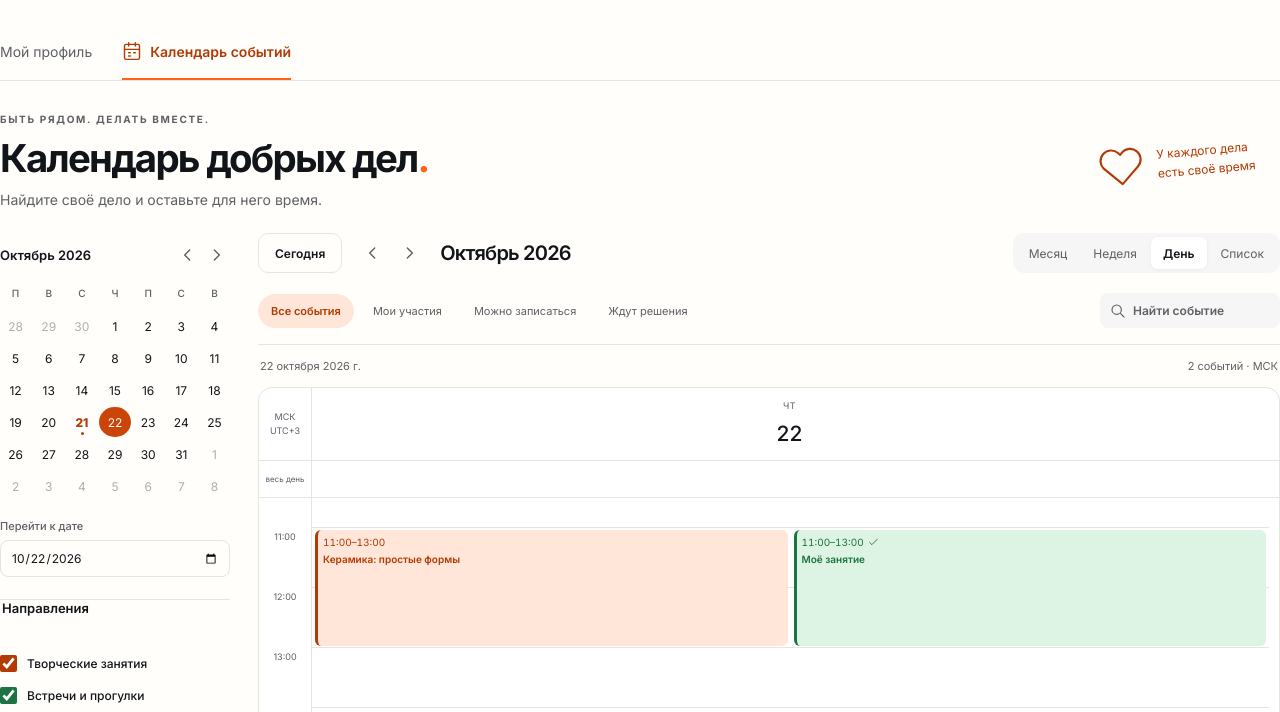
calendar interaction › warns about confirmed overlapping events even if filtered out
(page scrolled)
Expected: the button with aria-label "Керамика: простые формы, " is shown, [315,530,788,646]
Click the button "Можно записаться" at [525, 311], box [461,294,589,328]
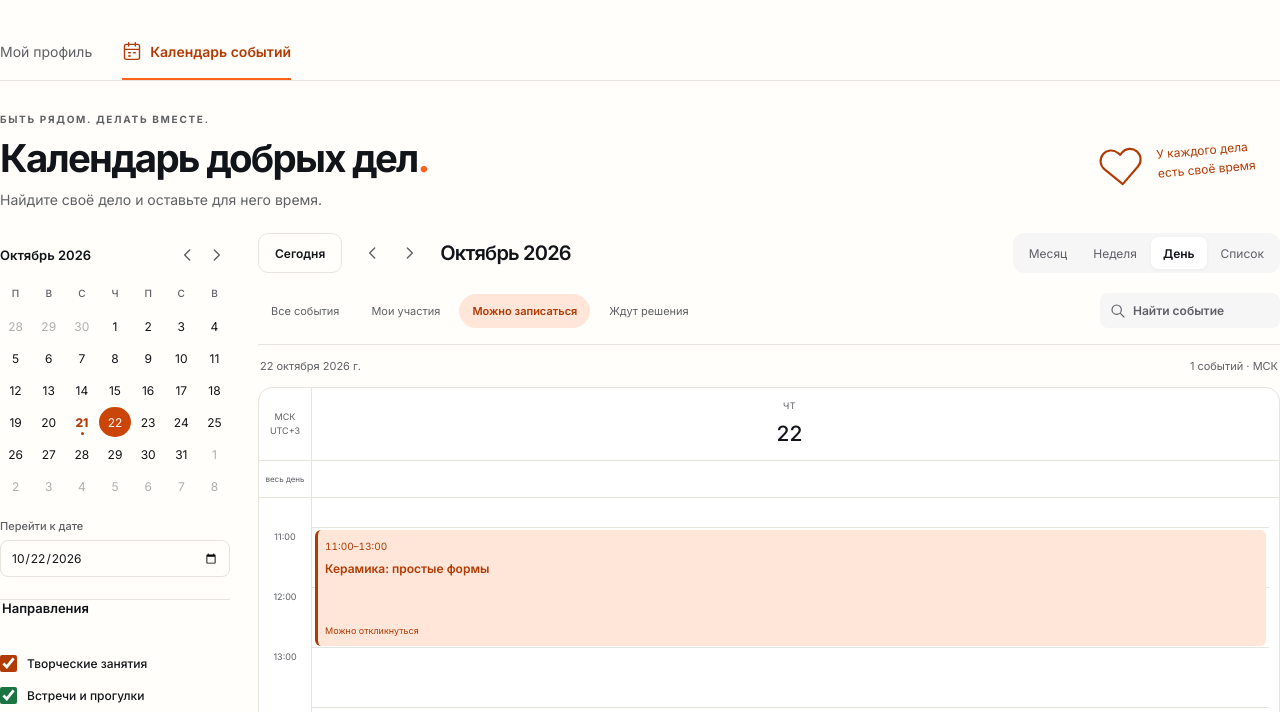
Click the button with aria-label "Керамика: простые формы, " at [356, 546], box [315,530,1266,646]
(page scrolled)
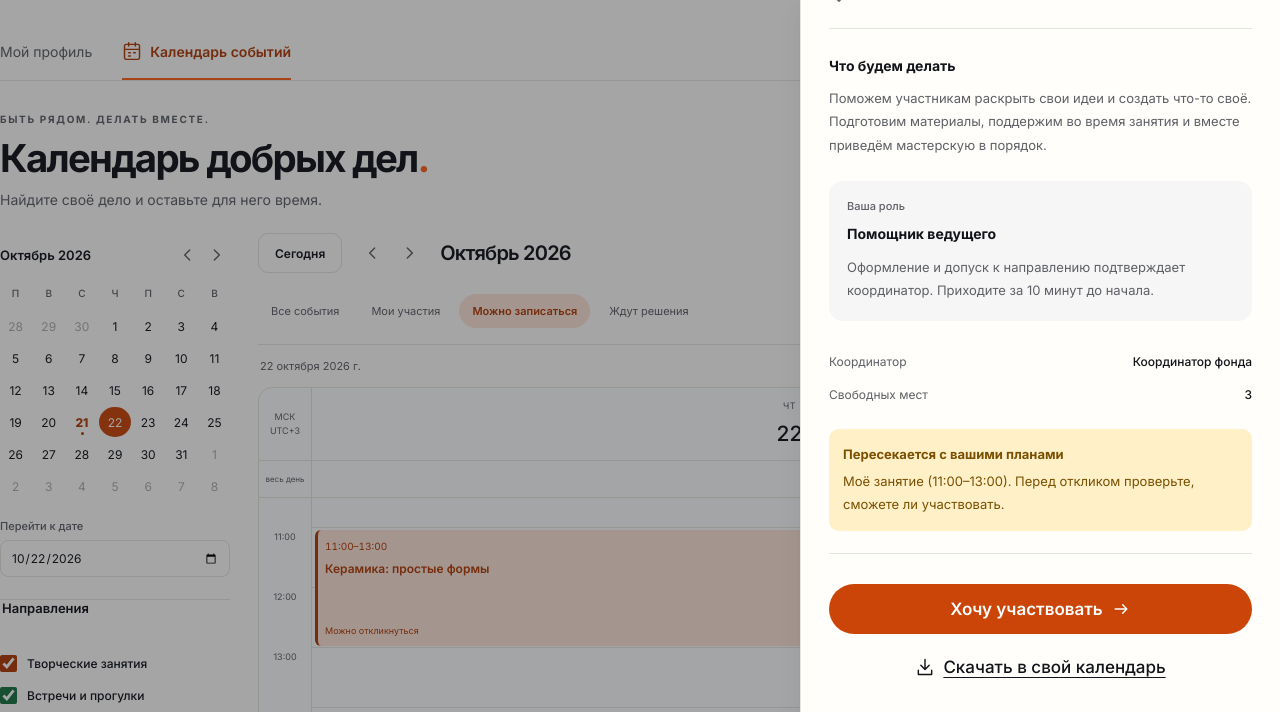
Expected: the text "Пересекается с вашими планами" is shown, [843,446,1064,462]
Expected: the text "Моё занятие (" is shown, [843,473,1008,489]
